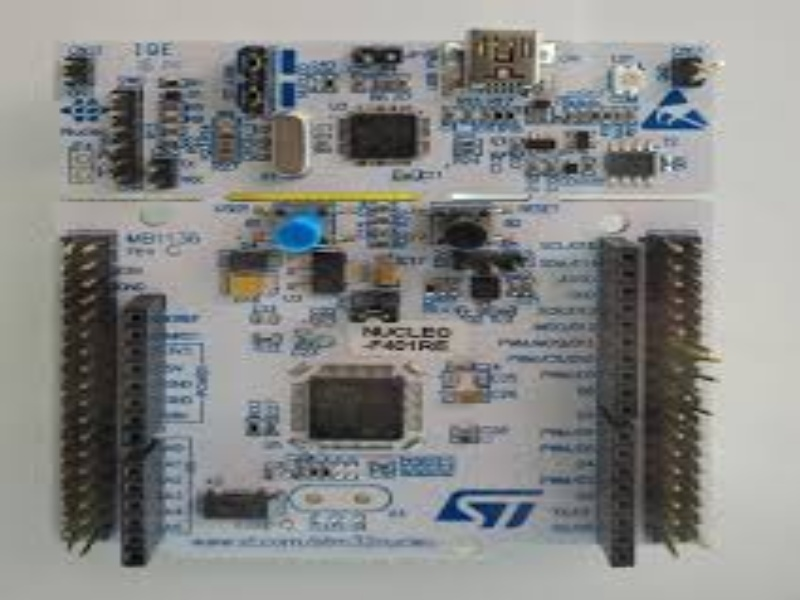stmnucleo: (35, 35, 744, 562)
